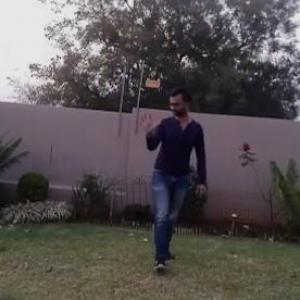follow_hand: (134, 109, 160, 137)
